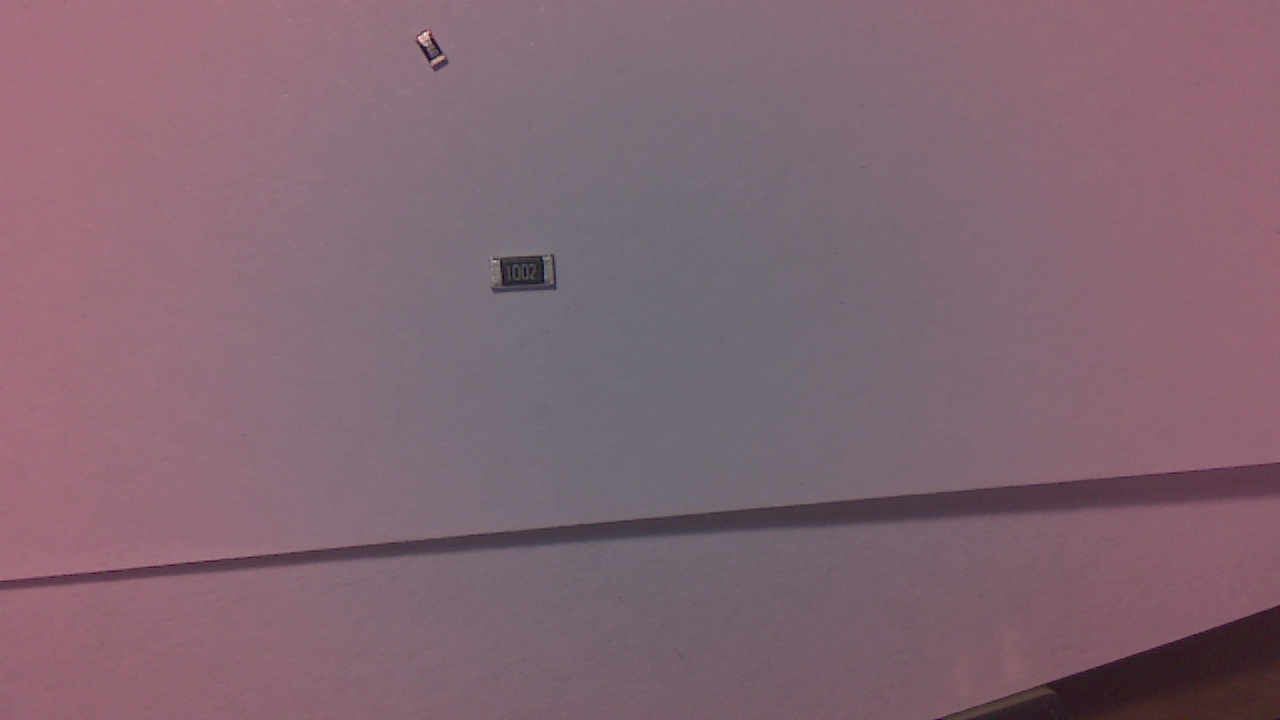Resistor: (493, 258, 562, 297), (421, 36, 455, 78)
